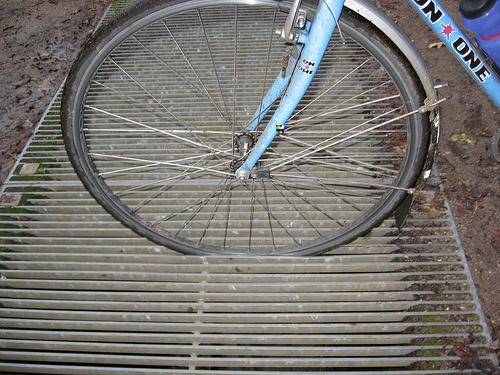car: (61, 1, 500, 257)
